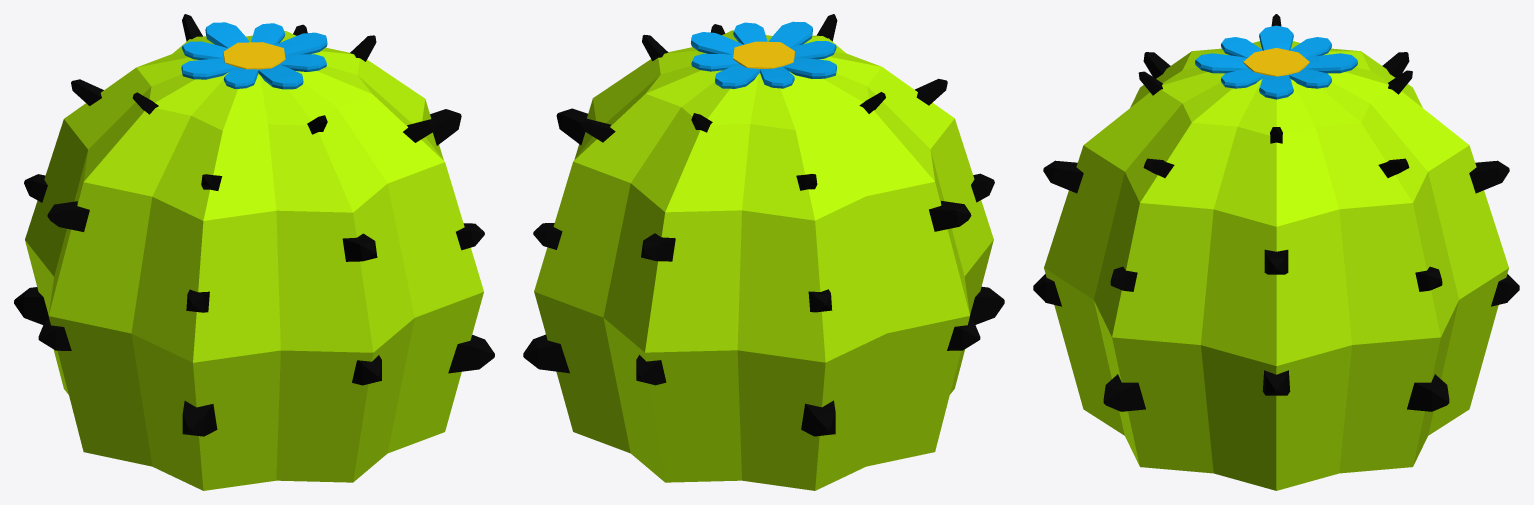
File: Cardon06_00Brazos_Flor_Azul.fbx
3 renders of one model, left to right at view 1: azimuth 30°, elevation 25°; view 2: azimuth 150°, elevation 25°; view 3: azimuth 270°, elevation 25°, orthographic. The views are drawn at different scales.
Visible parts, largest first — view 1: Cactus, Espinas, Flor_Azul; view 2: Cactus, Espinas, Flor_Azul; view 3: Cactus, Espinas, Flor_Azul.
Boxes of the visible parts, <box> form: Cactus: <box>25,31,483,490</box>; Espinas: <box>14,14,494,436</box>; Flor_Azul: <box>181,22,327,89</box>; Cactus: <box>534,30,993,490</box>; Espinas: <box>523,14,1004,436</box>; Flor_Azul: <box>691,21,836,88</box>; Cactus: <box>1044,41,1508,490</box>; Espinas: <box>1033,14,1519,411</box>; Flor_Azul: <box>1195,25,1357,99</box>.
Bounding box in the file's own units: 47.77 × 37.93 × 47.77.
